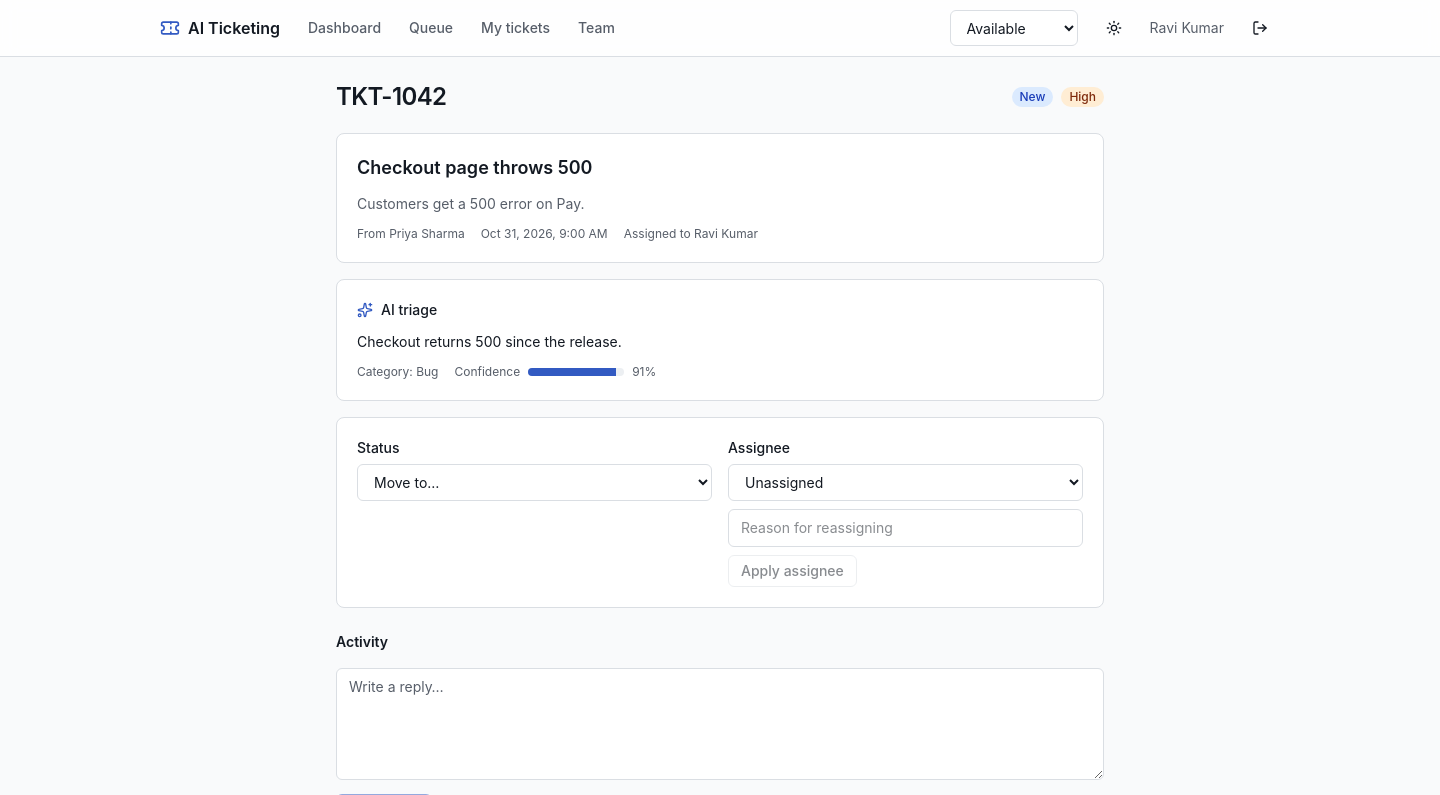
Scenario: TicketDetailPage › rolls an optimistic status change back and shows the error
Select "Resolved" in the dropdown labelled "Status": [534, 482] box [357,464,712,501]
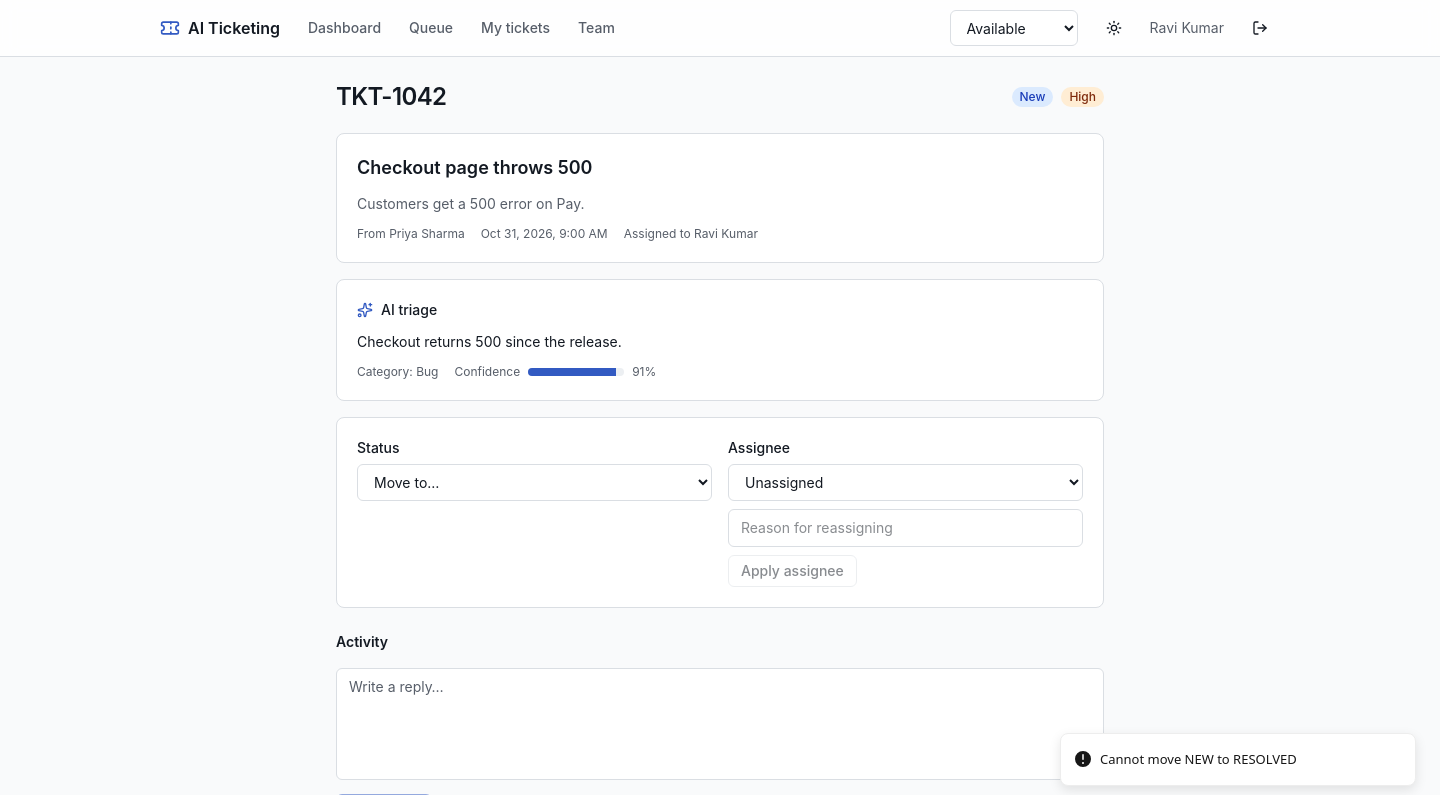
Expected: the text "New" is shown, [1012,87,1053,107]
Now the text "Cannot move NEW to RESOLVED" is shown, box [1100,750,1297,769]
